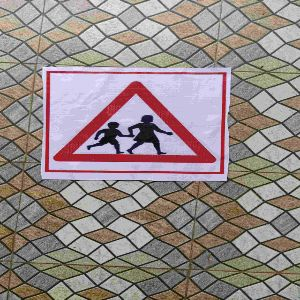schools: (48, 75, 220, 172)
